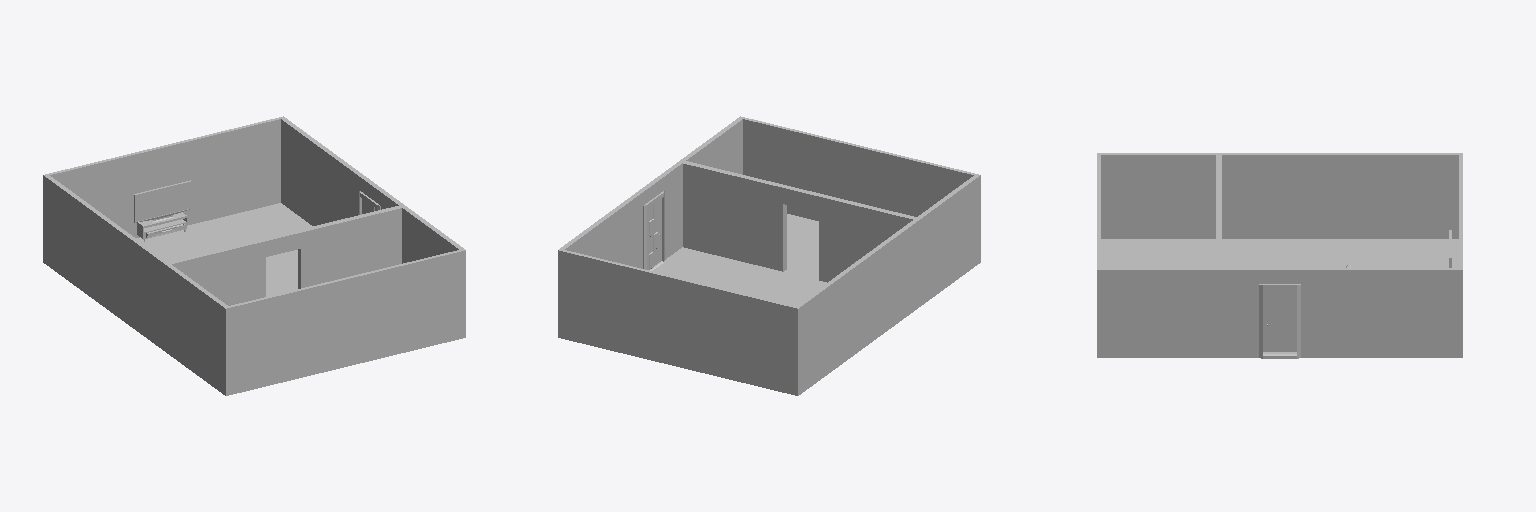
The model's file is InsideModel.obj.
3 renders of one model, left to right at view 1: azimuth 30°, elevation 25°; view 2: azimuth 150°, elevation 25°; view 3: azimuth 270°, elevation 25°, orthographic.
Parts seen in each view (by area): view 1: Base_Cube.003, Tv_Cube.006, TvStand_Cube.005; view 2: Base_Cube.003, Door_Cube.004; view 3: Base_Cube.003, Door_Cube.004.
Part boxes in pixels (bbox=[...]): Base_Cube.003: bbox=[43, 116, 465, 395]; Tv_Cube.006: bbox=[134, 180, 191, 222]; TvStand_Cube.005: bbox=[137, 212, 186, 241]; Base_Cube.003: bbox=[558, 116, 980, 395]; Door_Cube.004: bbox=[647, 199, 661, 269]; Base_Cube.003: bbox=[1097, 153, 1462, 358]; Door_Cube.004: bbox=[1263, 290, 1296, 351].
Bounding box in the file's own units: 42.52 × 14.62 × 55.4.